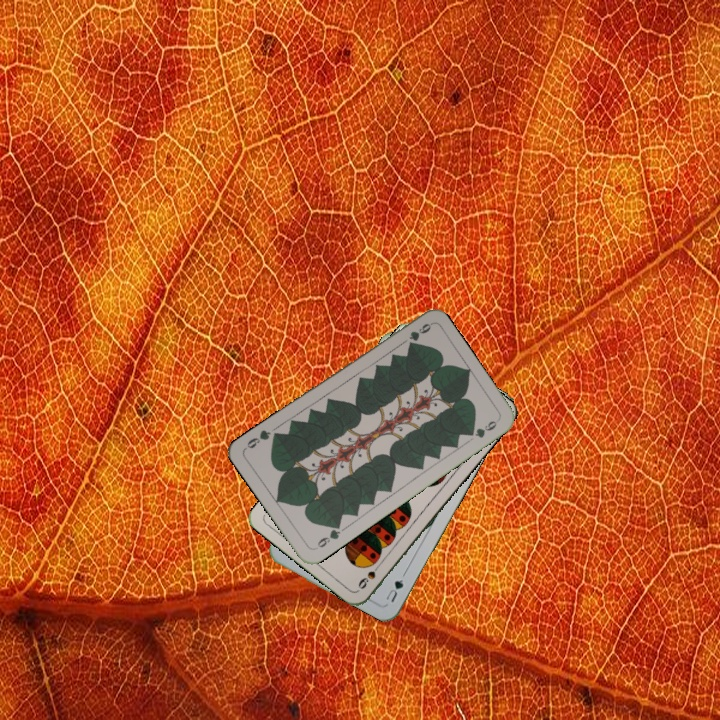G9: (311, 520, 343, 552), (405, 319, 434, 343)
GU: (382, 569, 408, 605)
S9: (354, 558, 385, 592)
